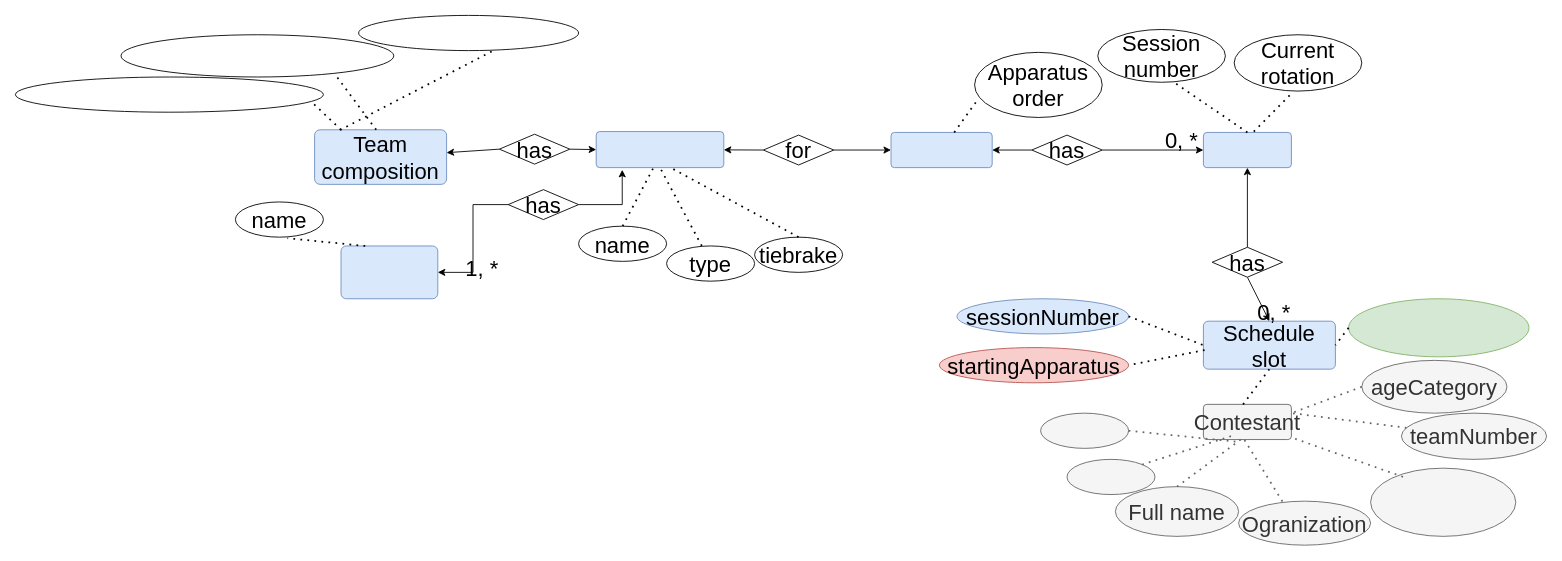
Some shapes in this 1562 by 561 pixel diagram are drawn without their labels. Each missing label, with the centre of its shape:
"Age category" goes at (x=389, y=272).
"baseContestantNumber" goes at (x=169, y=94).
"bonusContestantNumber" goes at (x=257, y=55).
"Competing apparatuses" goes at (x=1443, y=501).
"Competition" goes at (x=659, y=149).
"CompId" goes at (x=1110, y=476).
"Id" goes at (x=1084, y=430).
"multiCategoryTeam" goes at (x=468, y=33).
"Schedule" goes at (x=941, y=150).
"scored apparatuses" goes at (x=1438, y=327).
"Session" goes at (x=1247, y=150).
